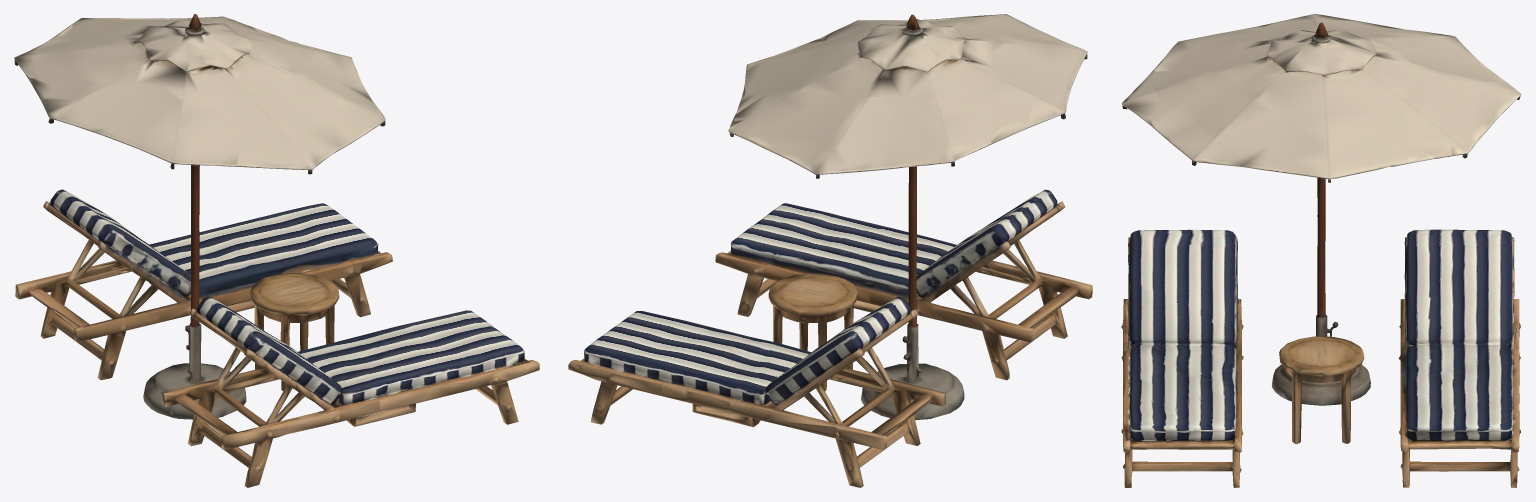
Rendered from prop_beach_umbrella_loungers.glb.
3 renders of one model, left to right at view 1: azimuth 30°, elevation 25°; view 2: azimuth 150°, elevation 25°; view 3: azimuth 270°, elevation 25°, orthographic. The views are drawn at different scales.
Visible parts, largest first — view 1: tripo_node_2016f770-ad25-491a-ba36-4527724ae2ba; view 2: tripo_node_2016f770-ad25-491a-ba36-4527724ae2ba; view 3: tripo_node_2016f770-ad25-491a-ba36-4527724ae2ba.
Boxes of the visible parts, x1,y1,x2,y2 form: tripo_node_2016f770-ad25-491a-ba36-4527724ae2ba: (14,14,539,487); tripo_node_2016f770-ad25-491a-ba36-4527724ae2ba: (568,14,1092,487); tripo_node_2016f770-ad25-491a-ba36-4527724ae2ba: (1121,14,1521,487).
Bounding box in the file's own units: 0.9988 × 0.9426 × 0.9397.
1 material, 1 textured.
